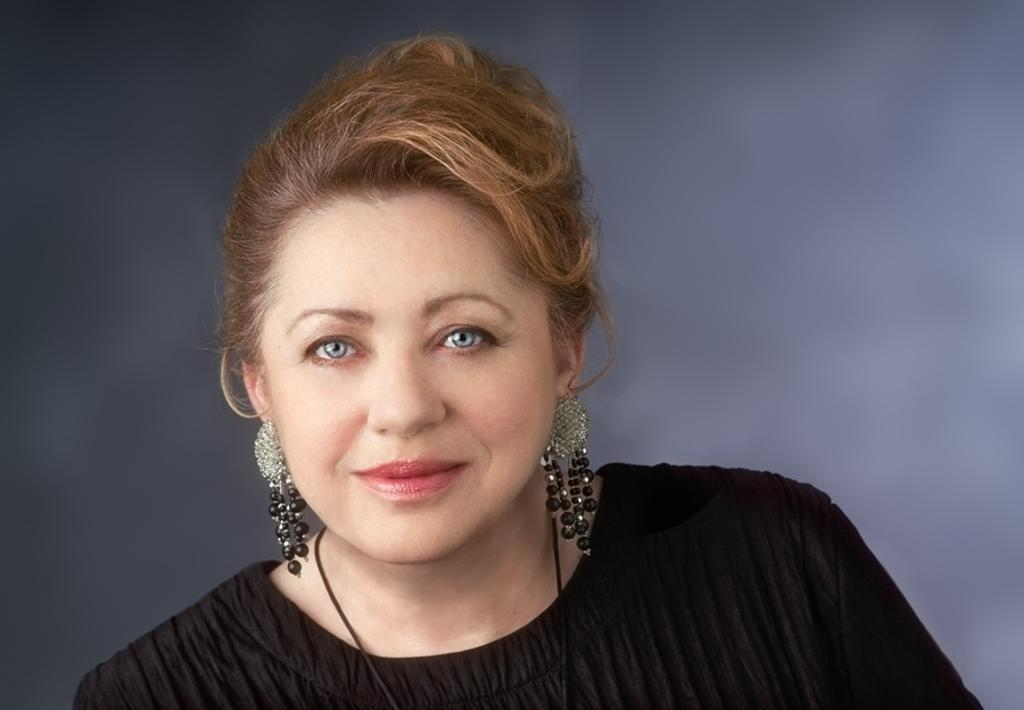face: (260, 196, 558, 556)
